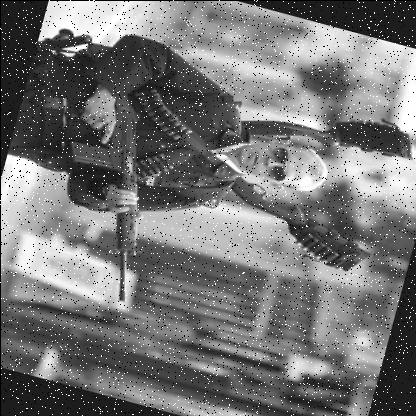rifle: (28, 75, 183, 305)
